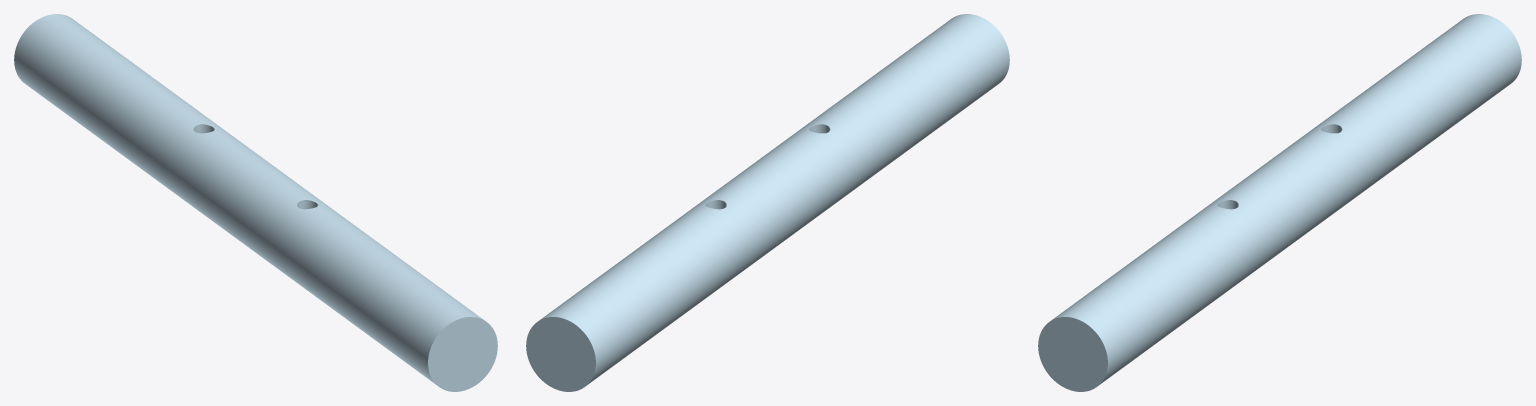
File: GearRod23.gltf
The picture shows the model from 3 angles, left to right: view 1: azimuth 30°, elevation 25°; view 2: azimuth 150°, elevation 25°; view 3: azimuth 330°, elevation 25°; orthographic projection.
Visible parts, largest first — view 1: Part 1; view 2: Part 1; view 3: Part 1.
Boxes of the visible parts, <box> form: Part 1: <box>14,14,497,391</box>; Part 1: <box>526,14,1009,391</box>; Part 1: <box>1038,14,1521,391</box>.
Size of the model in its own units: 0.0195 by 0.0195 by 0.2.
